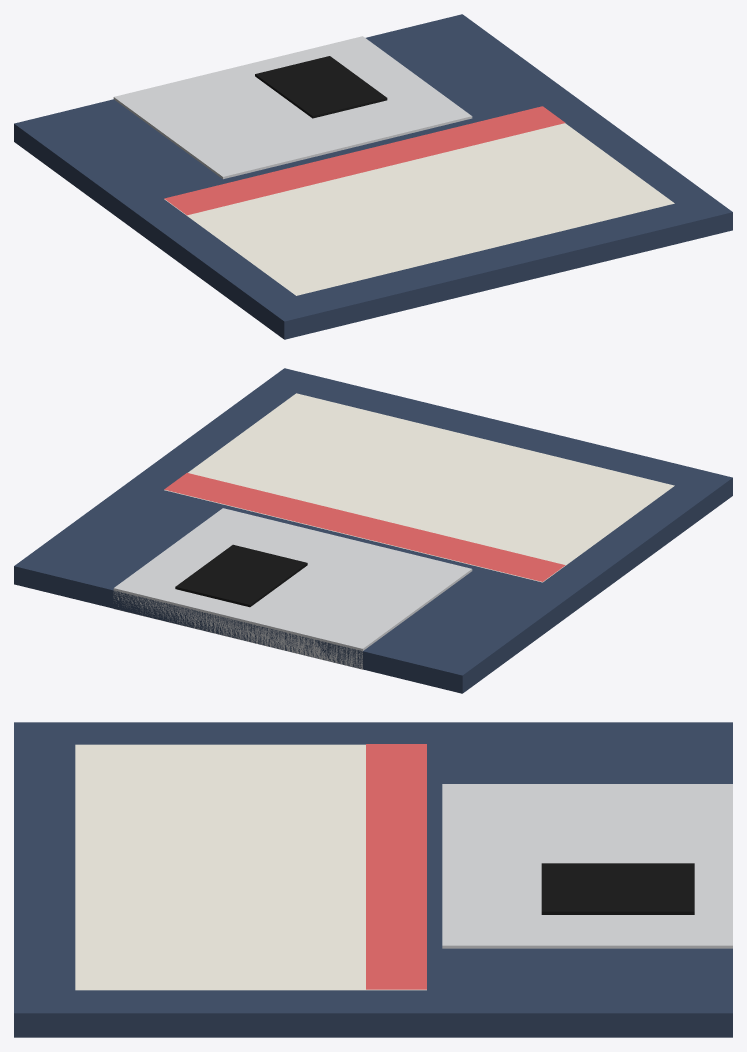
The model's file is floppy_disk.glb.
3 renders of one model, top to bottom at view 1: azimuth 30°, elevation 25°; view 2: azimuth 150°, elevation 25°; view 3: azimuth 270°, elevation 25°, orthographic. The views are drawn at different scales.
Visible parts, largest first — view 1: FloppyBody, Label, MetalShutter, Stripe, ShutterSlot; view 2: FloppyBody, Label, MetalShutter, Stripe, ShutterSlot; view 3: FloppyBody, Label, MetalShutter, Stripe, ShutterSlot.
Part boxes in pixels (x1,y1,x2,y2): FloppyBody: (14,14,732,339); Label: (164,123,674,295); MetalShutter: (113,36,472,179); Stripe: (164,106,565,215); ShutterSlot: (255,56,387,118); FloppyBody: (14,368,732,693); Label: (164,393,674,582); MetalShutter: (113,508,472,669); Stripe: (164,473,565,581); ShutterSlot: (175,544,307,607); FloppyBody: (14,722,732,1037); Label: (75,744,426,990); MetalShutter: (442,784,732,948); Stripe: (366,744,426,989); ShutterSlot: (541,863,694,914).
Bounding box in the file's own units: 0.9 × 0.0495 × 0.94.
